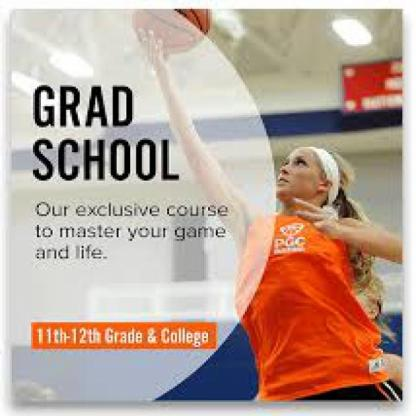basketball: (132, 7, 212, 55)
